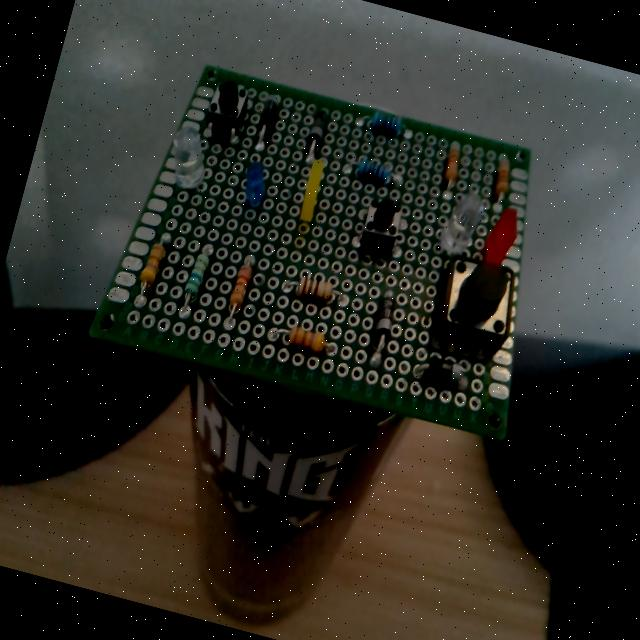diode: (247, 88, 286, 152), (370, 289, 400, 346), (424, 356, 471, 392), (303, 106, 329, 154)
led: (160, 119, 217, 192), (433, 186, 488, 261), (478, 201, 524, 271), (293, 154, 333, 234), (238, 158, 272, 210)
resistor: (177, 248, 211, 318), (222, 254, 255, 326), (486, 149, 520, 207), (435, 134, 467, 192), (354, 153, 396, 190), (138, 240, 167, 290), (294, 271, 336, 305), (288, 324, 328, 356), (368, 108, 403, 140)
switch: (429, 250, 526, 354), (202, 76, 252, 143), (356, 198, 404, 256)
